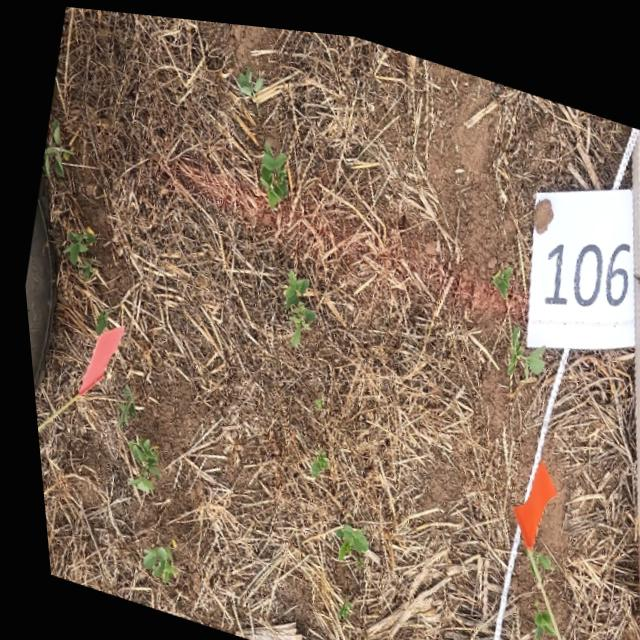soy_plant: (39, 117, 91, 177), (279, 264, 311, 341), (500, 315, 539, 369), (256, 135, 286, 203), (119, 435, 152, 490), (58, 225, 92, 278), (237, 61, 285, 98), (326, 518, 359, 554), (133, 546, 165, 580), (110, 383, 130, 426), (522, 591, 544, 629), (487, 255, 508, 288), (302, 446, 321, 471), (524, 542, 543, 559), (326, 592, 341, 613), (82, 183, 92, 195)
